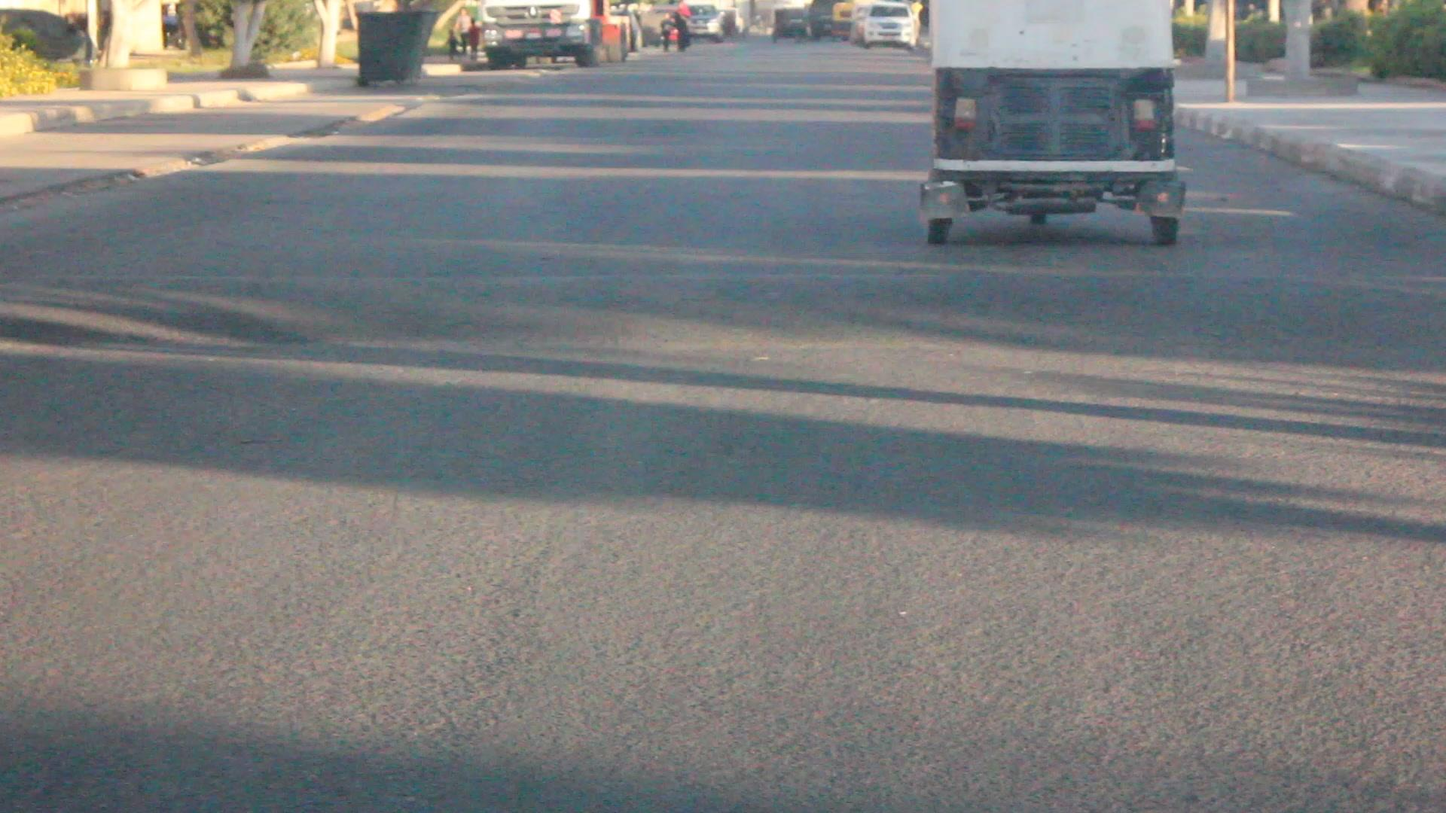Bump: (0, 280, 1446, 358)
